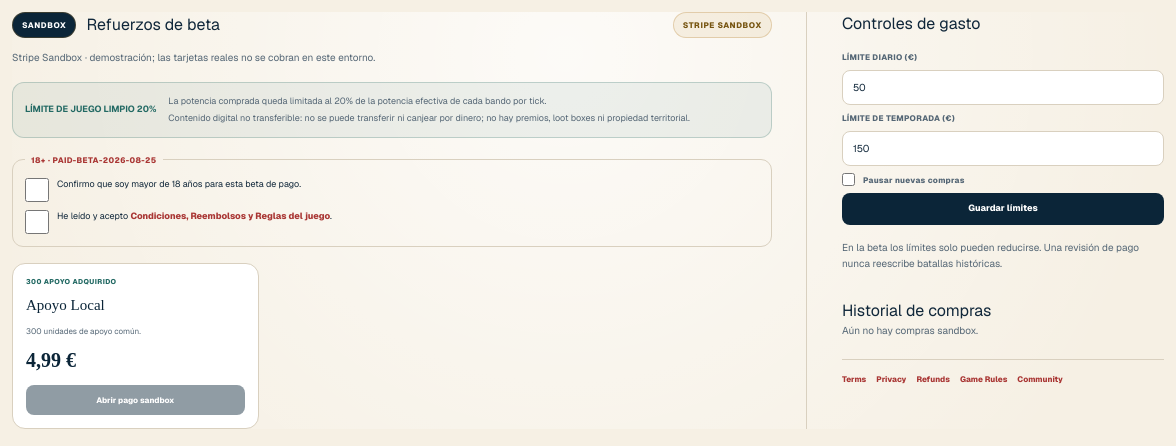
Test case: PaymentPanel › keeps checkout disabled without both 18+ and legal self-attestations
Expected: the button "Abrir pago sandbox" is disabled, [26,385,245,415]
Click the checkbox labelled "Confirmo que soy mayor de 18 años para esta beta de pago.": (37, 190) [25,178,49,202]
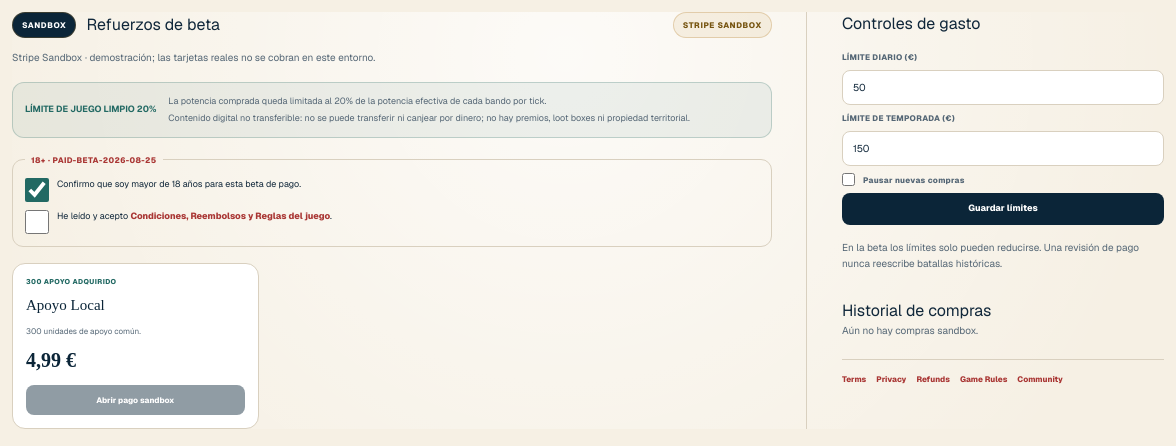
Expected: the button "Abrir pago sandbox" is disabled, [26,385,245,415]
Click the checkbox labelled "Condiciones, Reembolsos": (37, 222) [25,210,49,234]
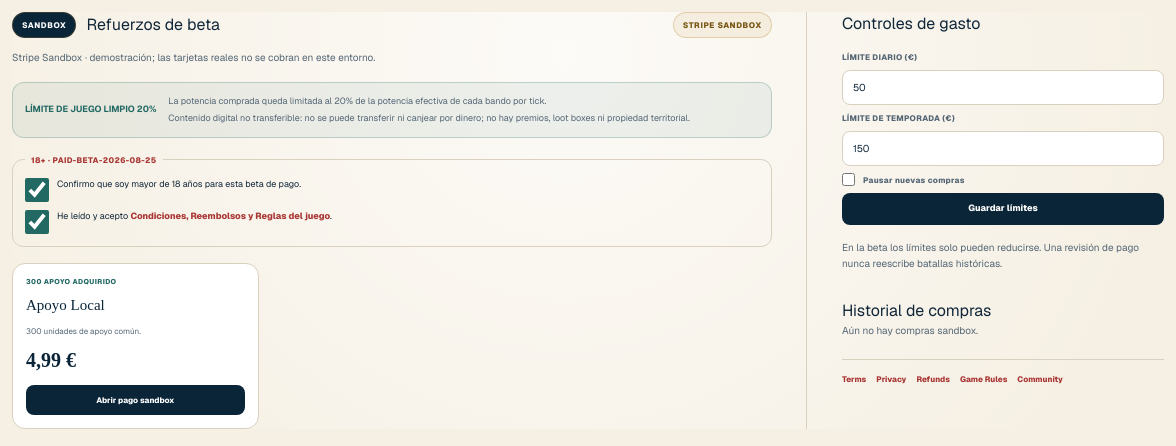
Now the button "Abrir pago sandbox" is enabled, box [26,385,245,415]
